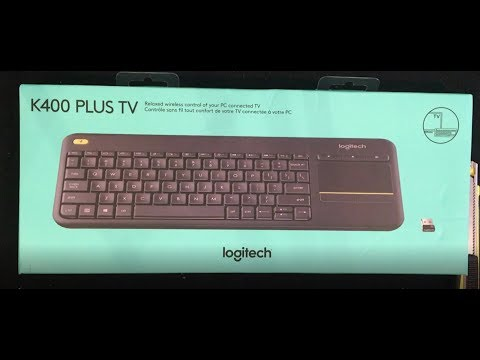logitech-keyboard-k400: (51, 137, 401, 233)
